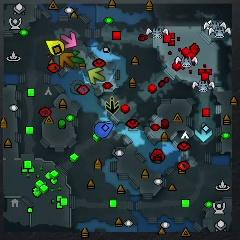p1: (95, 122, 115, 138)
p4: (45, 40, 65, 56)
x1: (61, 31, 78, 49)
x2: (89, 67, 106, 85)
x2Clone: (107, 99, 119, 115), (107, 96, 119, 108)
x3: (196, 122, 213, 143)
x4: (70, 51, 85, 68)
x5: (59, 52, 74, 68)
